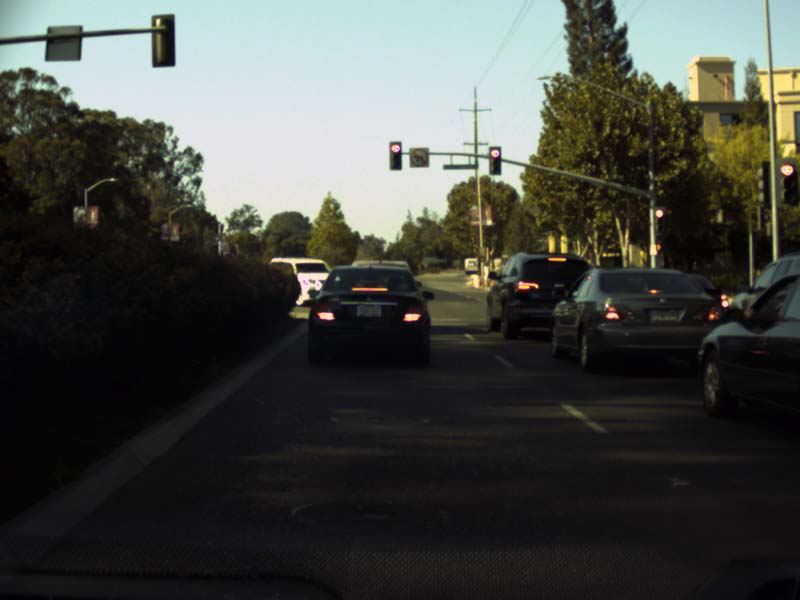Red: (780, 157, 799, 205), (653, 206, 667, 238), (388, 141, 402, 170), (489, 147, 501, 174)
